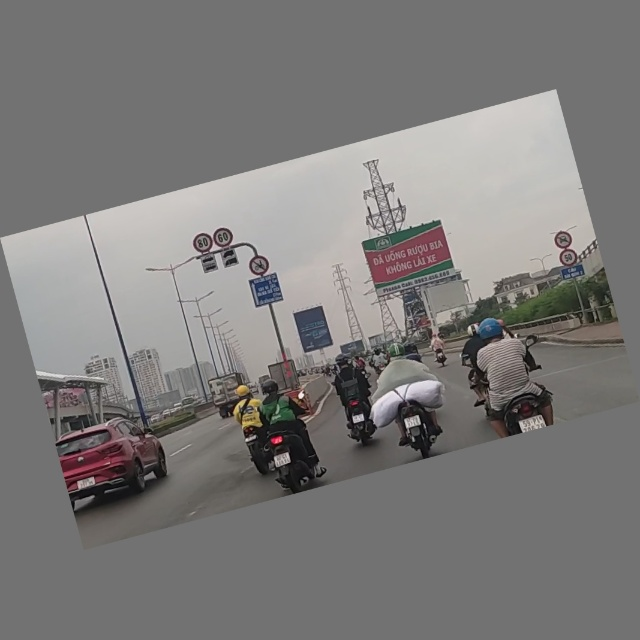P.103a: (551, 228, 573, 250)
P.104: (246, 254, 271, 279)
P.127*50: (559, 249, 577, 268)
P.127*60: (211, 225, 235, 249)
P.127*80: (190, 230, 215, 255)
